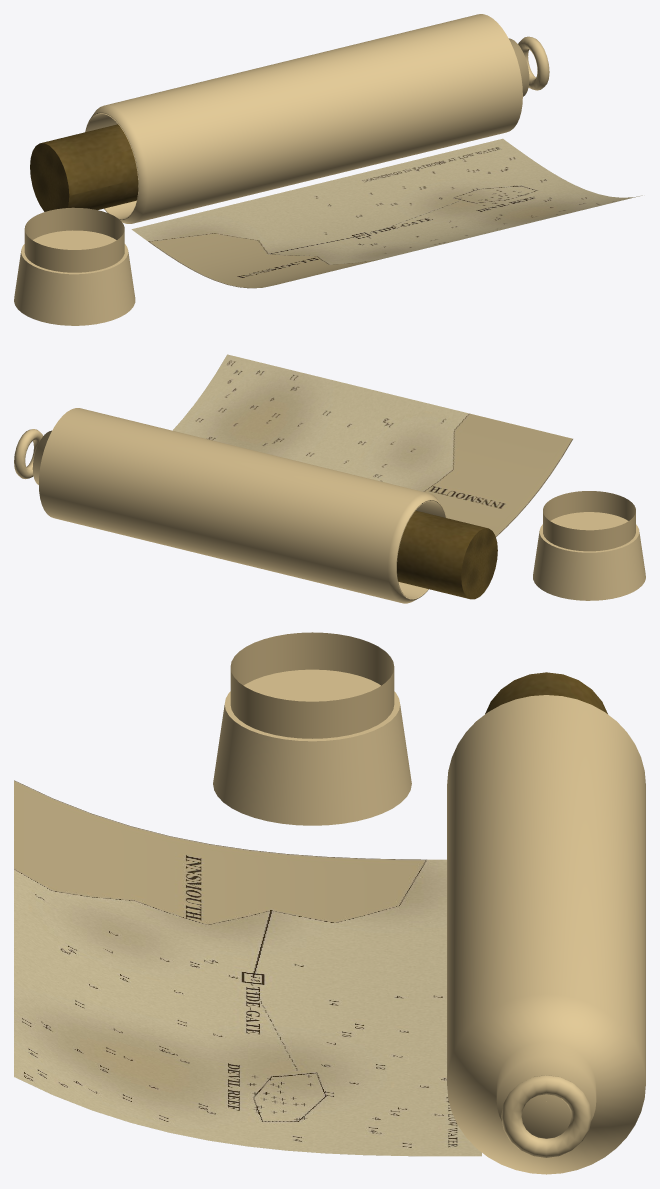
The model's file is clock-weight.glb.
3 views of the same model, one above another, from view 1: azimuth 30°, elevation 25°; view 2: azimuth 150°, elevation 25°; view 3: azimuth 270°, elevation 25° (orthographic). The views are drawn at different scales.
Parts seen in each view (by area): view 1: Weight, Chart, Base, Roll, Thread, Hook; view 2: Weight, Chart, Roll, Base, Thread, Hook; view 3: Chart, Weight, Base, Thread, Hook, Roll.
Part boxes in pixels (x1=…): Weight: x1=85, y1=14, x2=529, y2=223; Chart: x1=131, y1=138, x2=642, y2=288; Base: x1=14, y1=230, x2=135, y2=325; Roll: x1=30, y1=124, x2=138, y2=211; Thread: x1=24, y1=207, x2=124, y2=272; Hook: x1=518, y1=36, x2=549, y2=90; Weight: x1=32, y1=408, x2=446, y2=603; Chart: x1=173, y1=354, x2=572, y2=536; Roll: x1=397, y1=510, x2=497, y2=599; Base: x1=533, y1=512, x2=645, y2=600; Thread: x1=543, y1=491, x2=635, y2=551; Hook: x1=14, y1=429, x2=42, y2=479; Chart: x1=14, y1=780, x2=481, y2=1156; Weight: x1=447, y1=695, x2=645, y2=1174; Base: x1=213, y1=669, x2=411, y2=825; Thread: x1=230, y1=632, x2=394, y2=738; Hook: x1=501, y1=1075, x2=591, y2=1157; Roll: x1=485, y1=672, x2=607, y2=713.
Size of the model in its own units: 0.3795 by 0.068 by 0.216.
Materials: 4 (2 with a texture image).
